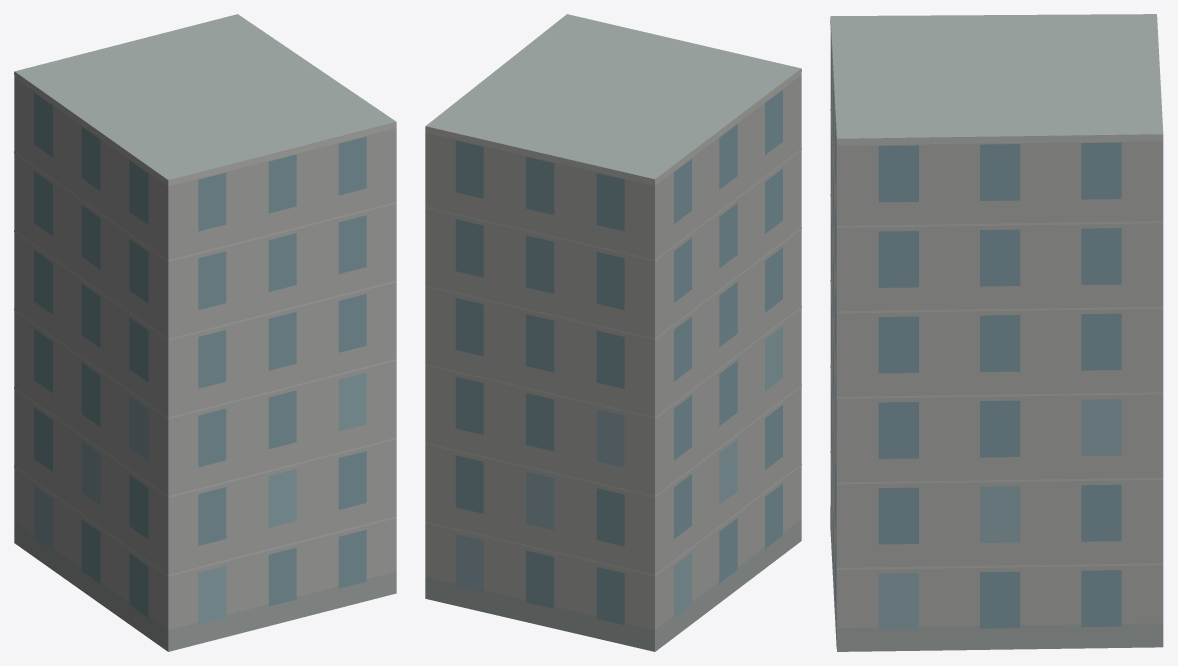
File: survey-upis-32829560.glb
The picture shows the model from 3 angles, left to right: view 1: azimuth 30°, elevation 25°; view 2: azimuth 150°, elevation 25°; view 3: azimuth 270°, elevation 25°; orthographic projection. The views are drawn at different scales.
Parts seen in each view (by area): view 1: survey-upis-32829560.tmp; view 2: survey-upis-32829560.tmp; view 3: survey-upis-32829560.tmp.
Boxes of the visible parts, x1=… form: survey-upis-32829560.tmp: x1=14, y1=14, x2=396, y2=651; survey-upis-32829560.tmp: x1=425, y1=14, x2=801, y2=651; survey-upis-32829560.tmp: x1=830, y1=14, x2=1163, y2=651.
Bounding box in the file's own units: 9.31 × 17.8 × 10.49.
